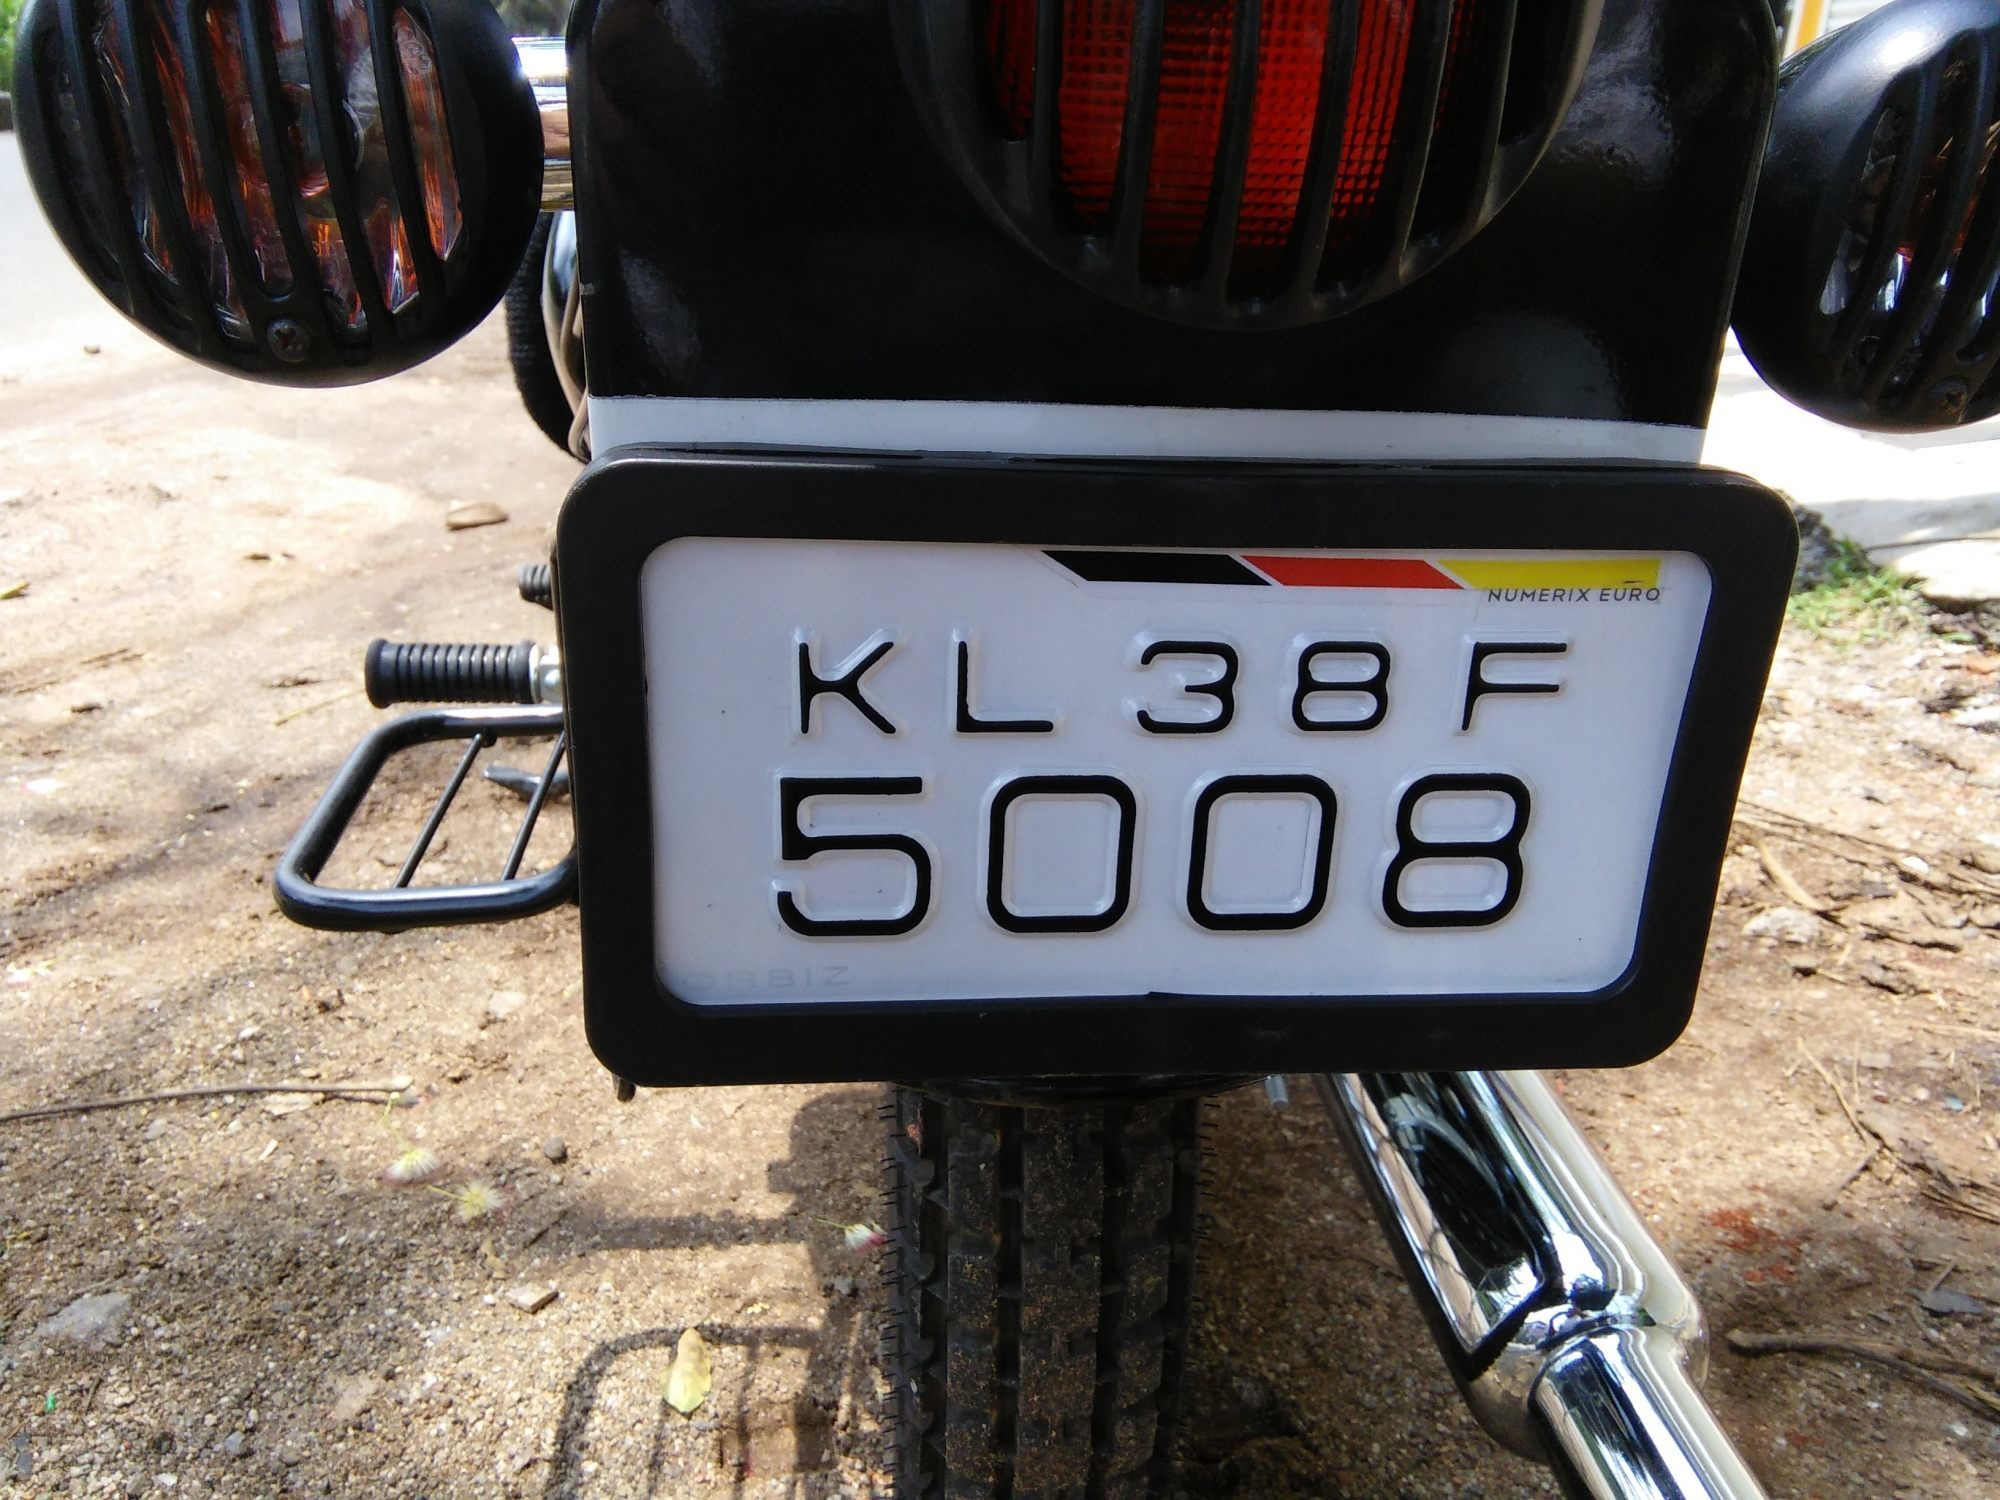plate: (555, 441, 1745, 1079)
